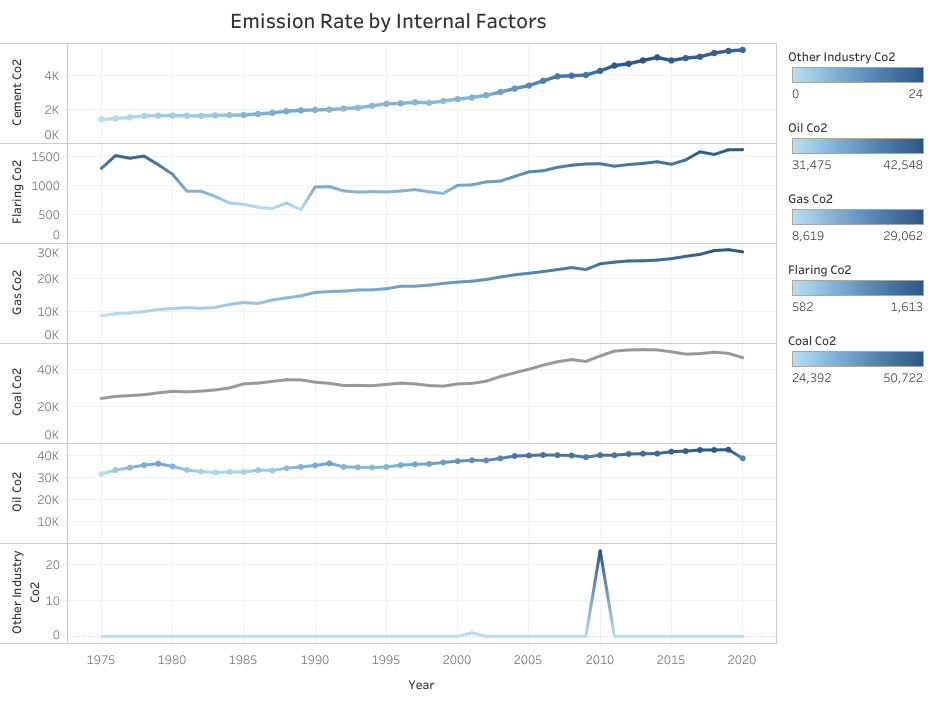

What the dashboard file says about the page in this screenshot:
{"tool":"tableau","page":{"name":"Dashboard 1","canvas":[1000,800],"ordinal":0},"visuals":[{"type":"worksheet","title":"Sheet 1","mark":"Multipolygon","box":[8,8,412,392]},{"type":"worksheet","title":"Sheet 2","mark":"Automatic","rows":["flaring_co2","cumulative_co2"],"cols":["Flaring Co2 (bin)"],"box":[420,8,412,392]},{"type":"legend","title":"Sheet 4","param":"[federated.10dddbd1013llb11yk8i01ezvngw].[cnt:coal_co2_per_capita:qk]","box":[832,8,160,22]},{"type":"legend","title":"Sheet 2","param":"[federated.10dddbd1013llb11yk8i01ezvngw].[:Measure Names]","box":[832,30,160,66]},{"type":"worksheet","title":"Sheet 4","mark":"Automatic","rows":["coal_co2_per_capita","oil_co2"],"cols":["Coal Co2 Per Capita (bin)"],"box":[8,400,412,392]},{"type":"worksheet","title":"Sheet 5","mark":"Circle","box":[420,400,412,392]}]}

Visuals, with their boxes on the page's 1000x800 design canvas (x1, y1, x2, y2). These are canvas units, not pixel positions in the 928x701 screenshot, which may show the page scaled, cropped or inside an application window:
"Sheet 1" worksheet (Multipolygon marks): locate(8, 8, 420, 400)
"Sheet 2" worksheet: locate(420, 8, 832, 400)
"Sheet 4" legend: locate(832, 8, 992, 30)
"Sheet 2" legend: locate(832, 30, 992, 96)
"Sheet 4" worksheet: locate(8, 400, 420, 792)
"Sheet 5" worksheet (Circle marks): locate(420, 400, 832, 792)
